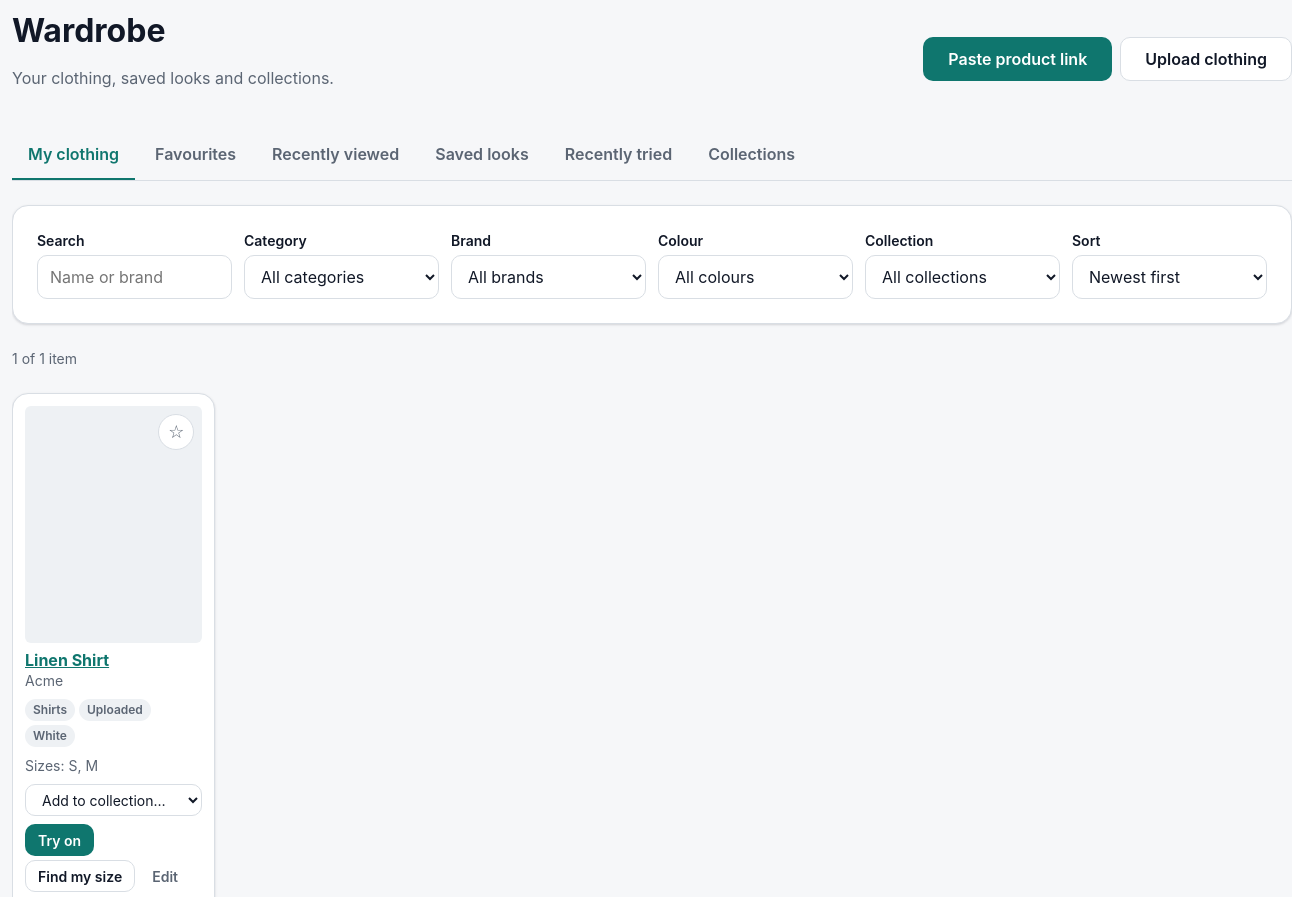
wardrobe › toggles favourites and adds items to collections
Click the button named "Add Linen Shirt to favourites". click: coordinates (176, 432)
box: x1=158 y1=414 x2=194 y2=450
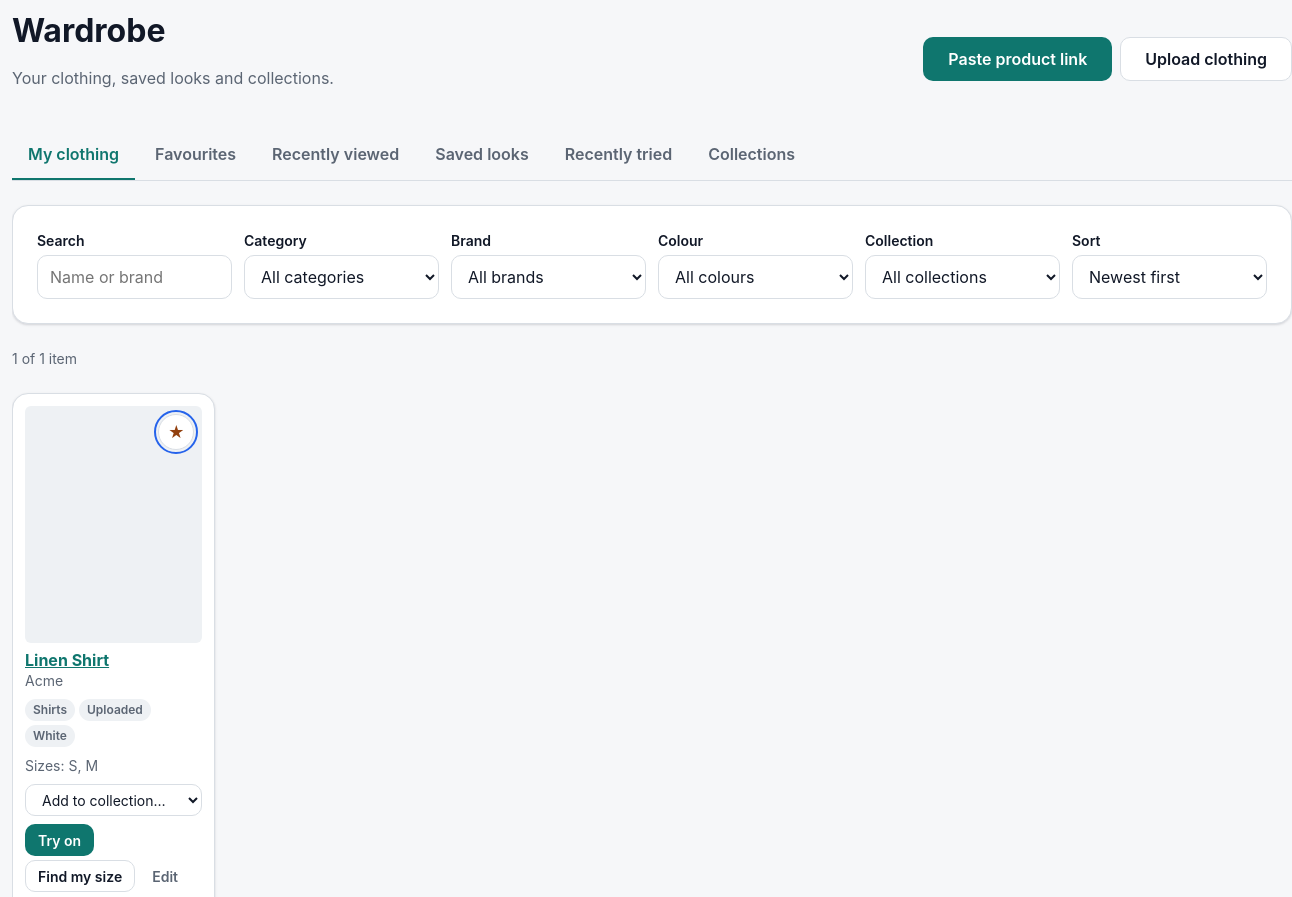
Now the button named "Remove Linen Shirt from favourites" is pressed, box x1=158 y1=414 x2=194 y2=450
Select "Work" in the dropdown named "Add Linen Shirt to a collection". click: coordinates (114, 800)
box: x1=25 y1=784 x2=202 y2=816
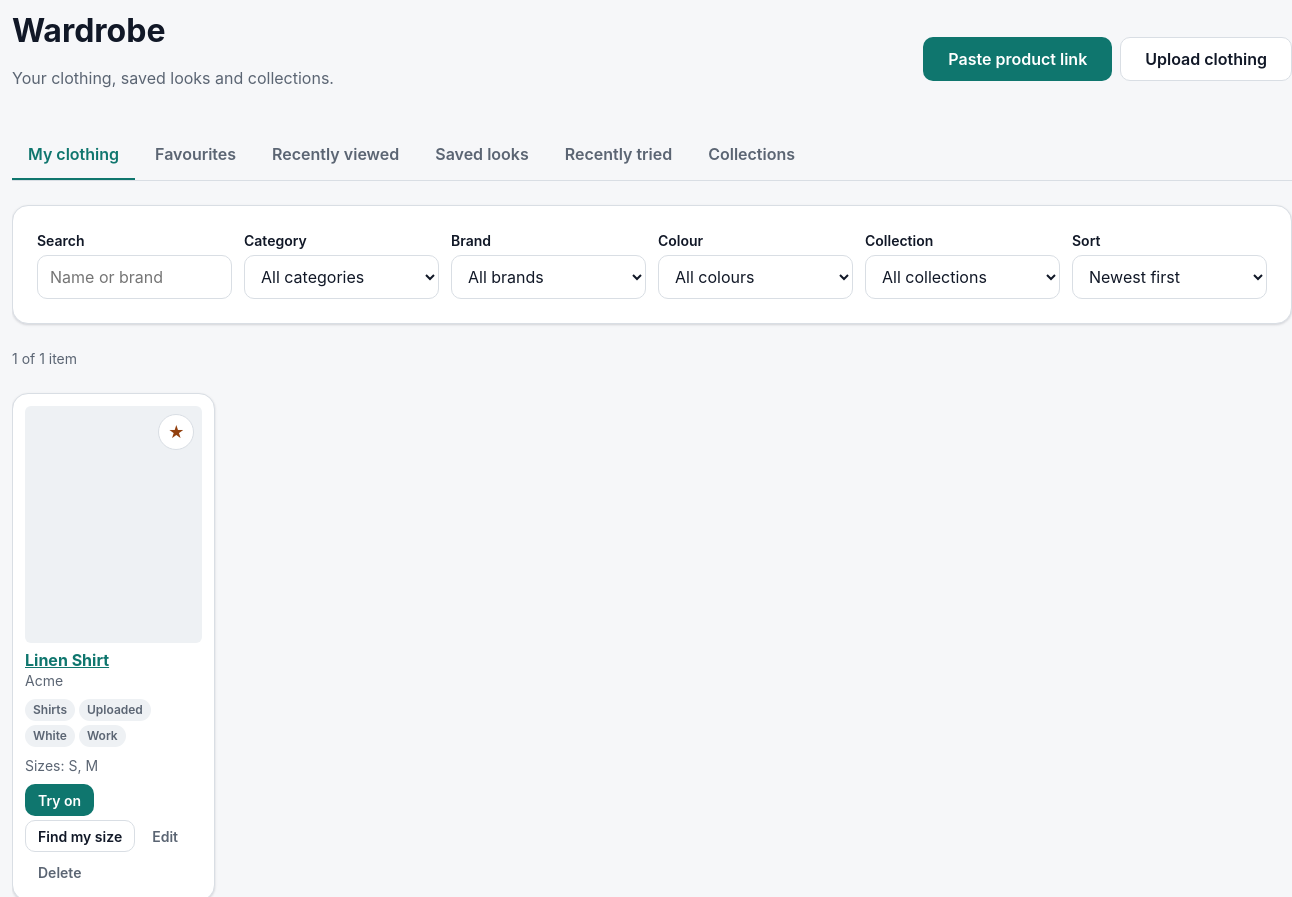
Now the text "Work" is shown, box x1=79 y1=725 x2=126 y2=747
